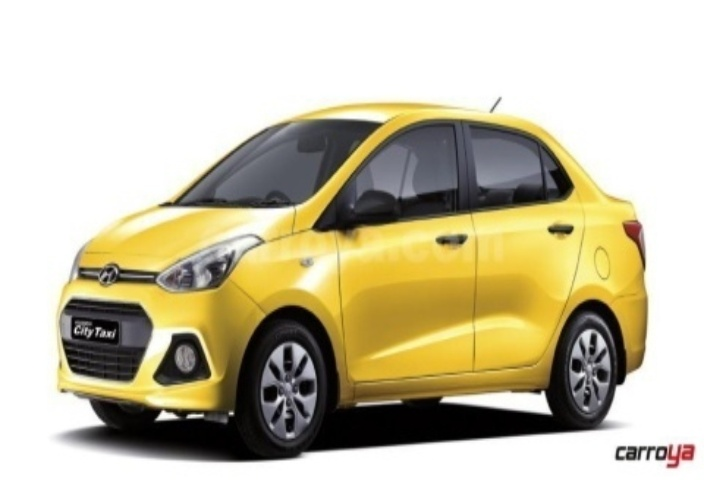taxi: (40, 82, 682, 429)
